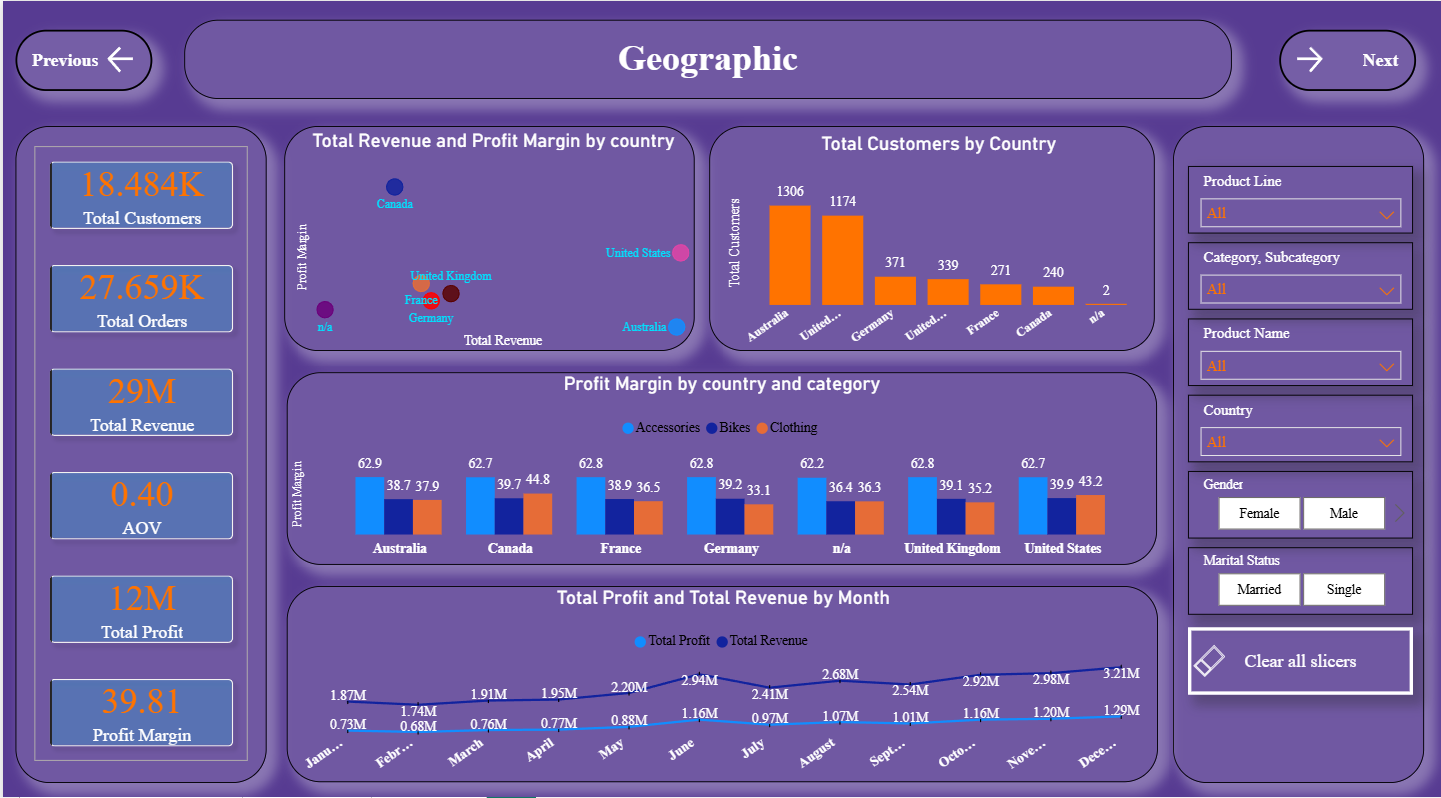

What the dashboard file says about the page in this screenshot:
{"tool":"powerbi","page":{"name":"Geographic","canvas":[1280,720],"ordinal":1},"visuals":[{"type":"textbox","box":[161.4,17.1,931.4,70],"z":0},{"type":"actionButton","box":[1134.3,25.7,121.4,54.3],"z":1000},{"type":"shape","box":[11.4,111.4,222.9,584.3],"z":2000},{"type":"shape","box":[1040,111.4,222.9,584.3],"z":3000},{"type":"actionButton","box":[11.4,25.7,121.4,54.3],"z":4000},{"type":"cardVisual","fields":{"Data":["Count(dim_customers.customer_key)","Count(fact_sales.order_number)","DAX Measures.Total Revenue","DAX Measures.AOV","DAX Measures.Total Profit","DAX Measures.Profit Margin"]},"box":[11,112,223,583],"z":5000},{"type":"slicer","fields":{"Values":["dim_products.product_line"]},"box":[1053,146.2,200,60],"z":6000},{"type":"slicer","fields":{"Values":["dim_products.category","dim_products.subcategory"]},"box":[1053,214,200,60],"z":7000},{"type":"slicer","fields":{"Values":["dim_products.product_name"]},"box":[1053,281.8,200,60],"z":8000},{"type":"slicer","fields":{"Values":["dim_customers.country"]},"box":[1053,349.6,200,60],"z":9000},{"type":"slicer","fields":{"Values":["dim_customers.gender"]},"box":[1053,417.4,200,60],"z":10000},{"type":"slicer","fields":{"Values":["dim_customers.marital_status"]},"box":[1053,485.2,200,60],"z":11000},{"type":"actionButton","box":[1053,557,200,60],"z":12000},{"type":"shape","box":[252.5,520,774.3,174.3],"z":13000},{"type":"shape","box":[252.5,330,773.8,171.2],"z":14000},{"type":"shape","box":[250,111.2,365,200],"z":15000},{"type":"shape","box":[627.5,111.2,396.2,200],"z":16000},{"type":"scatterChart","fields":{"X":["DAX Measures.Total Revenue"],"Y":["Avg(fact_sales.Sales Profit Margin)"],"Series":["dim_customers.country"]},"box":[256.2,113.8,358.8,200],"z":17000},{"type":"clusteredColumnChart","fields":{"Category":["dim_customers.country","dim_products.category"],"Y":["DAX Measures.Profit Margin"],"Series":["dim_products.category"]},"box":[252.5,330,773.8,171.2],"z":18000},{"type":"lineChart","fields":{"Category":["fact_sales.order_date.Variation.Date Hierarchy.Month"],"Y":["DAX Measures.Total Profit","DAX Measures.Total Revenue"]},"box":[256.2,520,767.5,173.8],"z":19000},{"type":"clusteredColumnChart","title":"Total Customers by Country","fields":{"Category":["top 20%.country"],"Y":["Sum(top 20%.Total_customers)"]},"box":[640,116.2,383.8,197.5],"z":20000}]}

Visuals, with their boxes in screenshot pixels (x1, y1, x2, y2), scaled from the page's 1280x720 canvas onto the 1441x798 screenshot:
textbox: l=182, t=19, r=1230, b=97
actionButton: l=1277, t=28, r=1414, b=89
shape: l=13, t=123, r=264, b=771
shape: l=1171, t=123, r=1422, b=771
actionButton: l=13, t=28, r=150, b=89
cardVisual - Count(dim_customers.customer_key) x Count(fact_sales.order_number): l=12, t=124, r=263, b=770
slicer - dim_products.product_line: l=1185, t=162, r=1411, b=229
slicer - dim_products.category x dim_products.subcategory: l=1185, t=237, r=1411, b=304
slicer - dim_products.product_name: l=1185, t=312, r=1411, b=379
slicer - dim_customers.country: l=1185, t=387, r=1411, b=454
slicer - dim_customers.gender: l=1185, t=463, r=1411, b=529
slicer - dim_customers.marital_status: l=1185, t=538, r=1411, b=604
actionButton: l=1185, t=617, r=1411, b=684
shape: l=284, t=576, r=1156, b=770
shape: l=284, t=366, r=1155, b=555
shape: l=281, t=123, r=692, b=345
shape: l=706, t=123, r=1152, b=345
scatterChart - DAX Measures.Total Revenue x Avg(fact_sales.Sales Profit Margin): l=288, t=126, r=692, b=348
clusteredColumnChart - dim_customers.country x dim_products.category: l=284, t=366, r=1155, b=555
lineChart - fact_sales.order_date.Variation.Date Hierarchy.Month x DAX Measures.Total Profit: l=288, t=576, r=1152, b=769
"Total Customers by Country" clusteredColumnChart: l=720, t=129, r=1153, b=348
